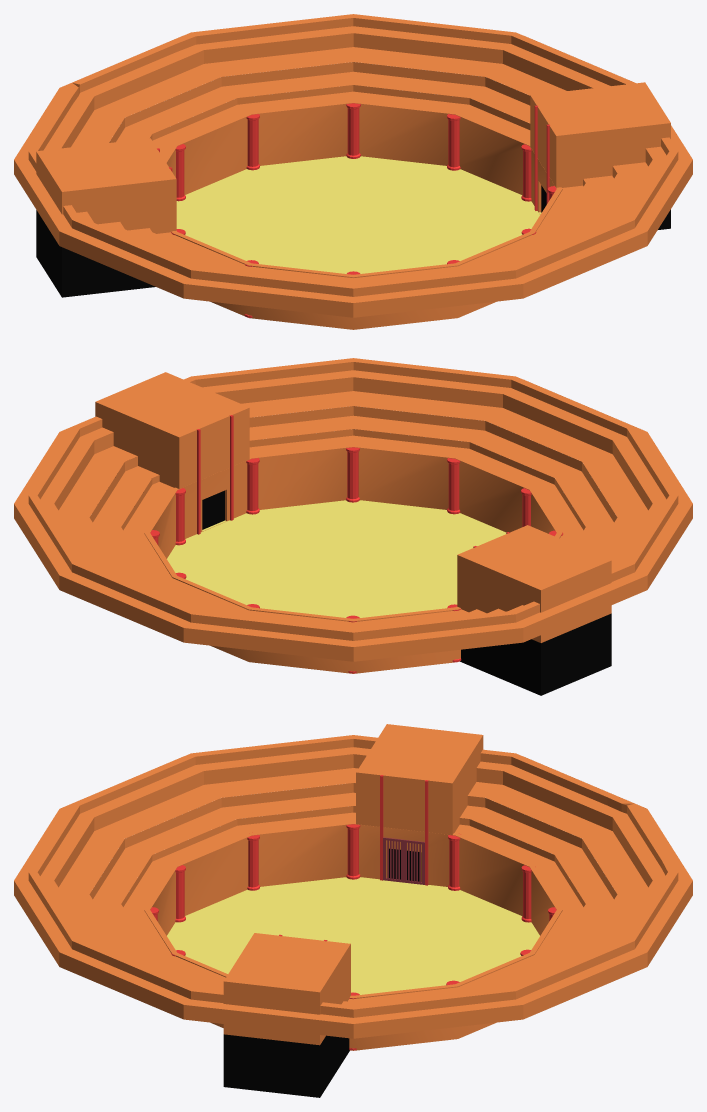
File: arena.glb
The picture shows the model from 3 angles, top to bottom: view 1: azimuth 30°, elevation 25°; view 2: azimuth 150°, elevation 25°; view 3: azimuth 270°, elevation 25°; orthographic projection.
Parts seen in each view (by area): view 1: stands, area, rail, entrance, entrance.001, column.004, column.005, column.003, column.006, column.002; view 2: stands, area, entrance, rail, entrance.001, column.007, column.008, column.009, column.006; view 3: stands, area, rail, entrance.001, entrance, gate.001, column, column.011, column.001.
Part boxes in pixels (box(x1,y1,x2,y2)): stands: box(14, 26, 692, 317); area: box(163, 100, 562, 329); rail: box(28, 14, 678, 296); entrance: box(36, 138, 176, 297); entrance.001: box(530, 82, 670, 229); column.004: box(346, 103, 360, 158); column.005: box(447, 114, 460, 170); column.003: box(246, 114, 259, 170); column.006: box(521, 144, 531, 201); column.002: box(175, 144, 185, 201); stands: box(14, 370, 692, 661); area: box(144, 444, 562, 673); entrance: box(457, 525, 611, 695); rail: box(28, 358, 678, 640); entrance.001: box(95, 372, 249, 529); column.007: box(246, 458, 259, 514); column.008: box(346, 447, 359, 502); column.009: box(447, 458, 460, 514); column.006: box(175, 488, 185, 545); stands: box(14, 747, 692, 1038); area: box(144, 821, 562, 1050); rail: box(28, 735, 678, 1017); entrance.001: box(223, 933, 350, 1097); entrance: box(356, 724, 483, 881); gate.001: box(383, 837, 424, 884); column: box(346, 824, 360, 879); column.011: box(247, 832, 259, 890); column.001: box(448, 833, 460, 890).
Bounding box in the file's own units: 58.44 × 10.05 × 58.44.
1 material, 1 textured.
